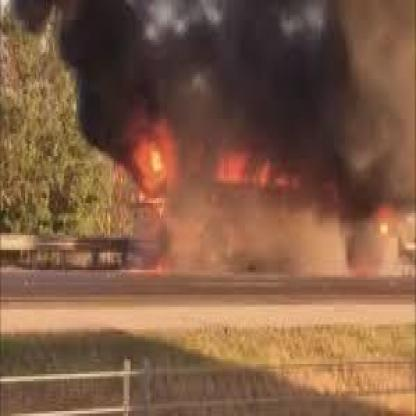fire: (115, 99, 324, 204)
smoke: (58, 0, 405, 150)
